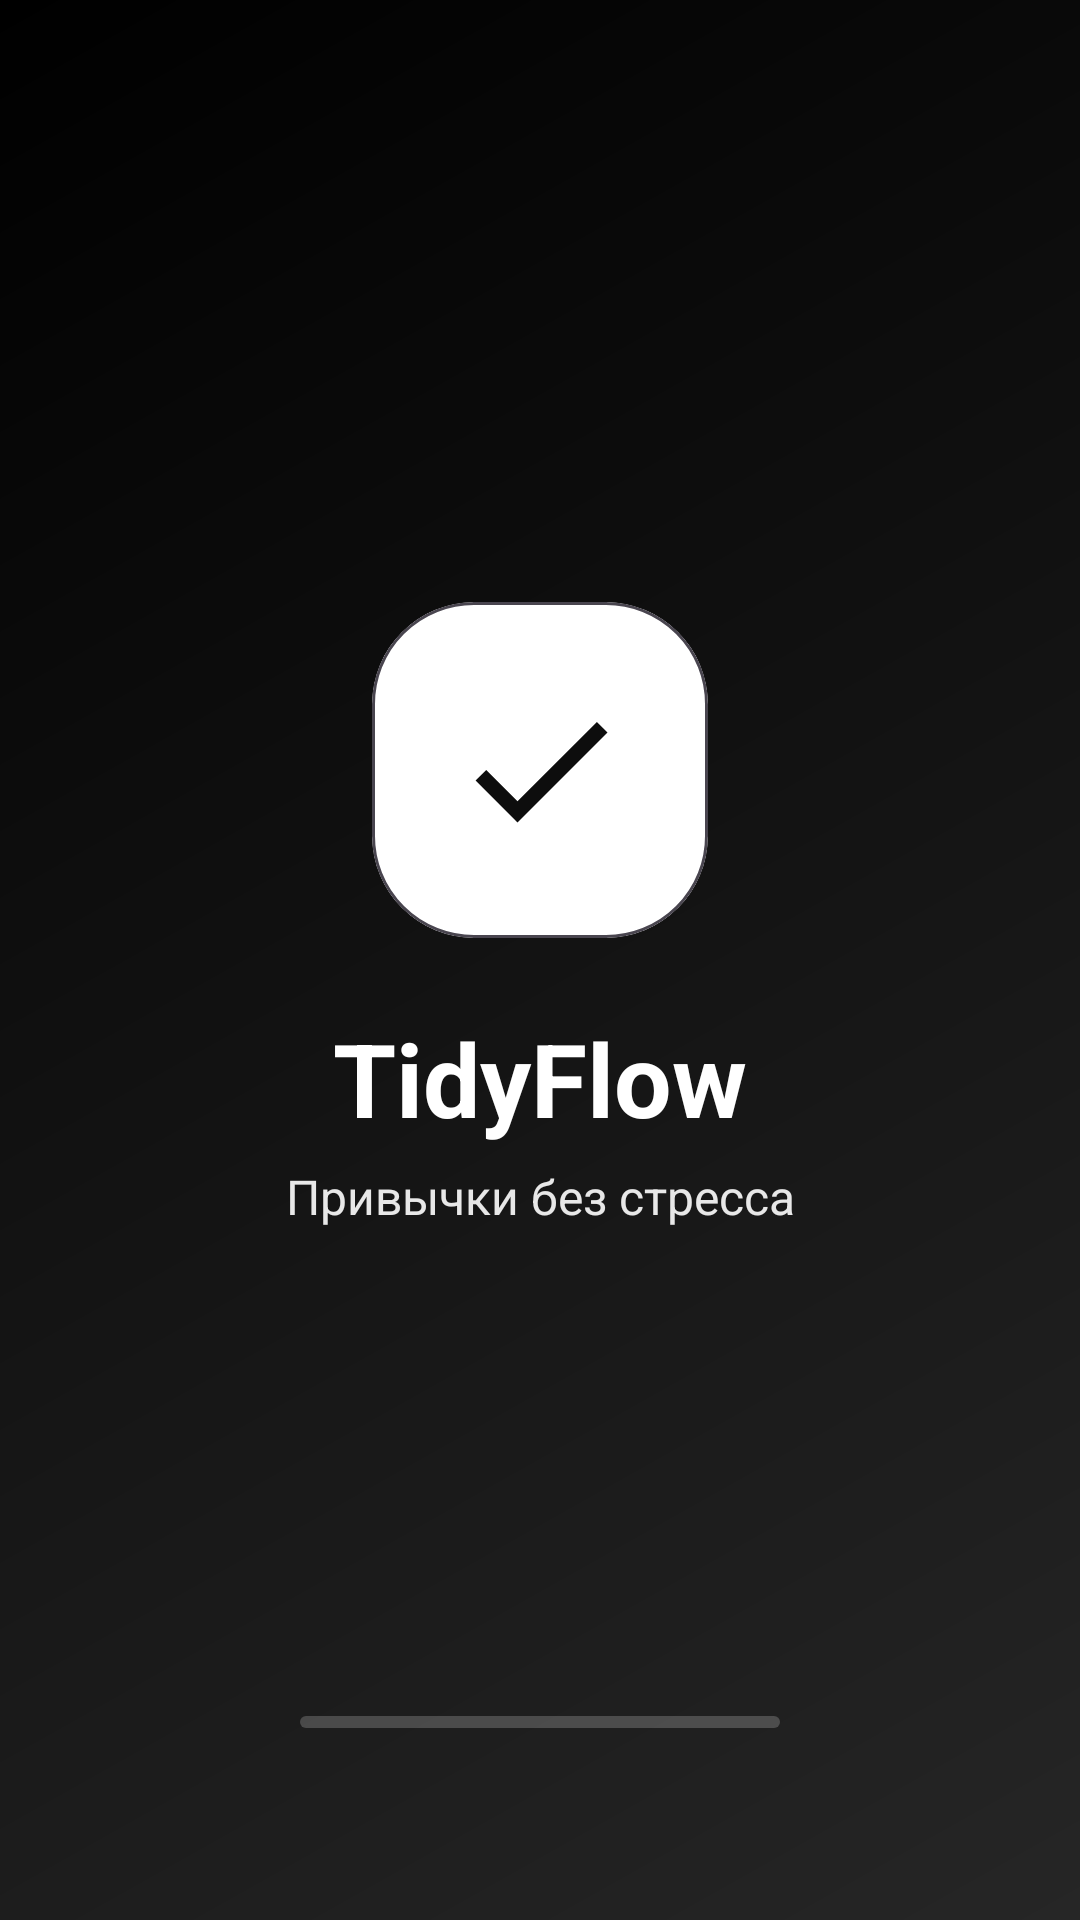

Named icons in this screenshot (1080 x 1920) and their centers, (x,y):
check: (541,772)
